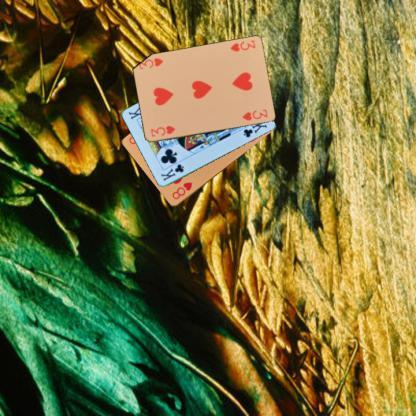3h: (228, 38, 257, 53), (148, 123, 176, 138)
8h: (169, 180, 194, 200)
Kc: (158, 161, 184, 182)
